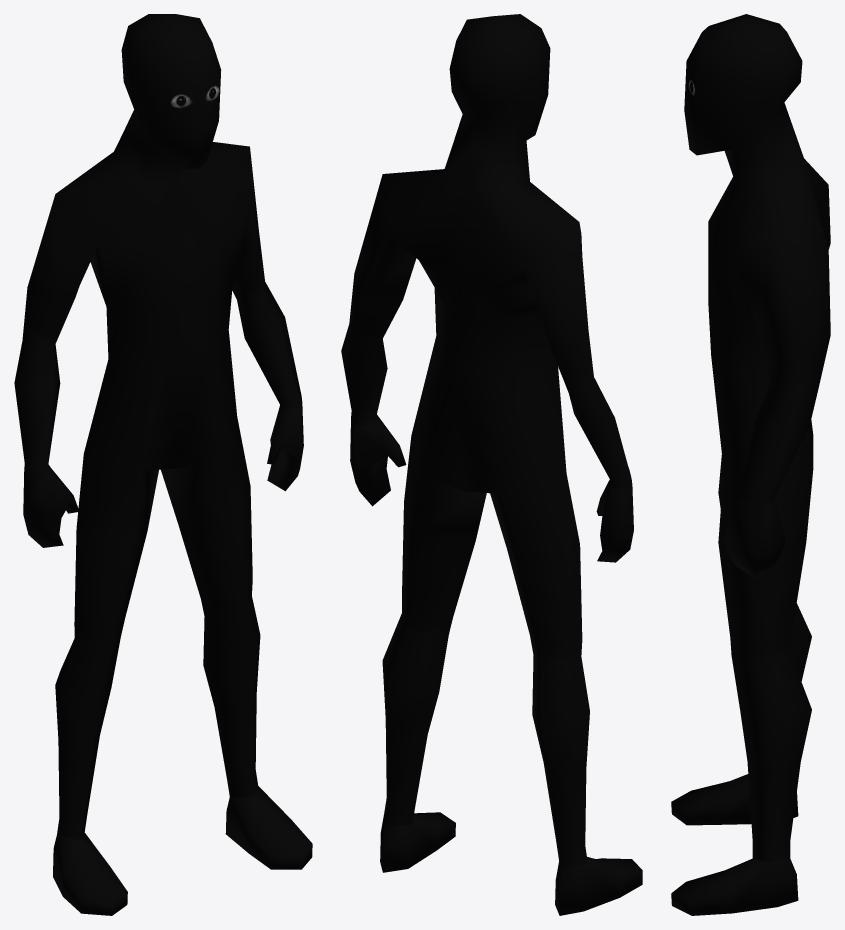
The model's file is DarkFigure.fbx.
3 views of the same model, side by side, from view 1: azimuth 30°, elevation 25°; view 2: azimuth 150°, elevation 25°; view 3: azimuth 270°, elevation 25° (orthographic). The views are drawn at different scales.
Visible parts, largest first — view 1: Cube.001; view 2: Cube.001; view 3: Cube.001.
Part boxes in pixels (x1,y1,x2,y2): Cube.001: (14,14,312,915); Cube.001: (341,14,642,915); Cube.001: (671,14,830,915).
Bounding box in the file's own units: 3.51 × 10.18 × 1.75.
1 material, 1 textured.
